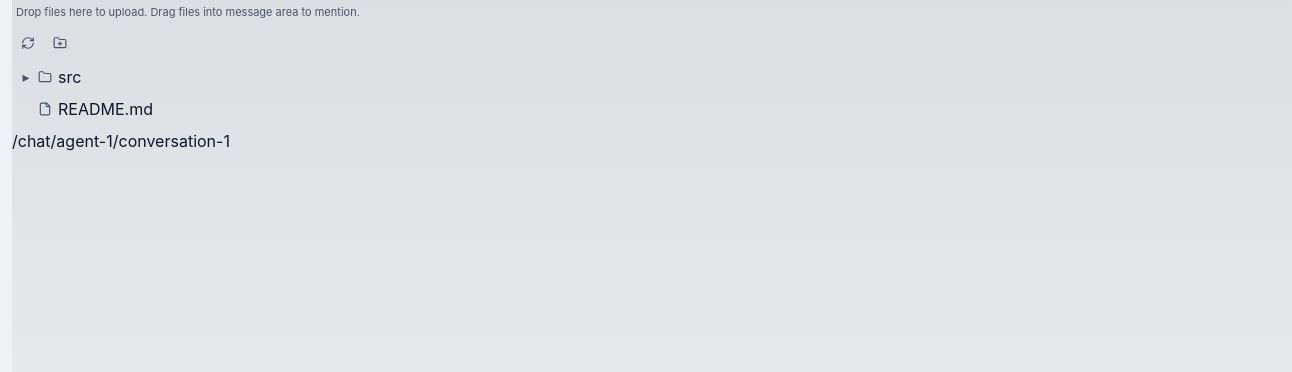
Test: WorkspaceFilesTab › refreshes the visible tree from the root action
The image size is (1292, 372).
Expected: the text "README.md" is shown, left=58, top=96, right=153, bottom=120
What coordinates should you click on to do the following:
click the button named "Refresh files"
I would click on:
 (28, 42)
Its box is left=16, top=30, right=40, bottom=54.
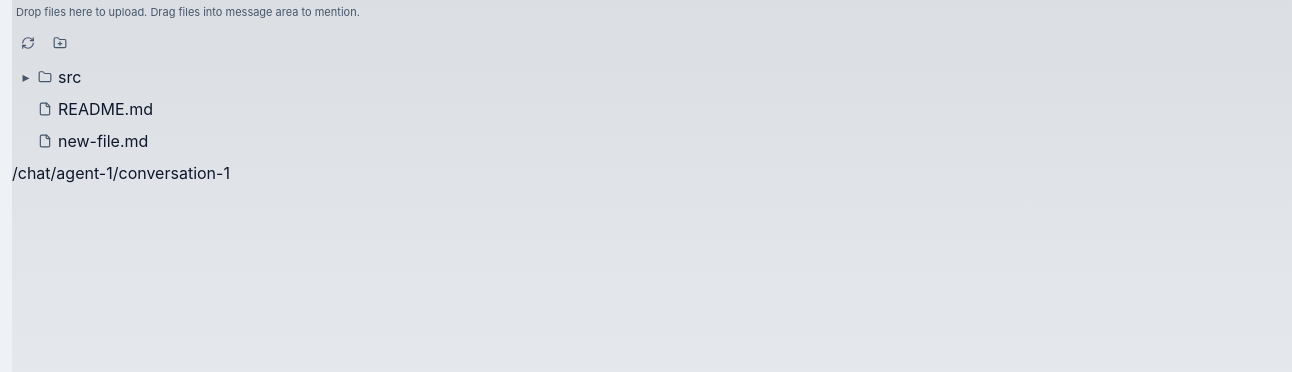
Expected: the text "new-file.md" is shown, left=58, top=128, right=148, bottom=152
